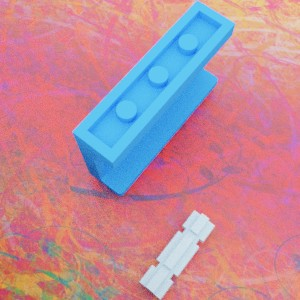lego: (72, 0, 235, 196), (138, 210, 214, 299)
